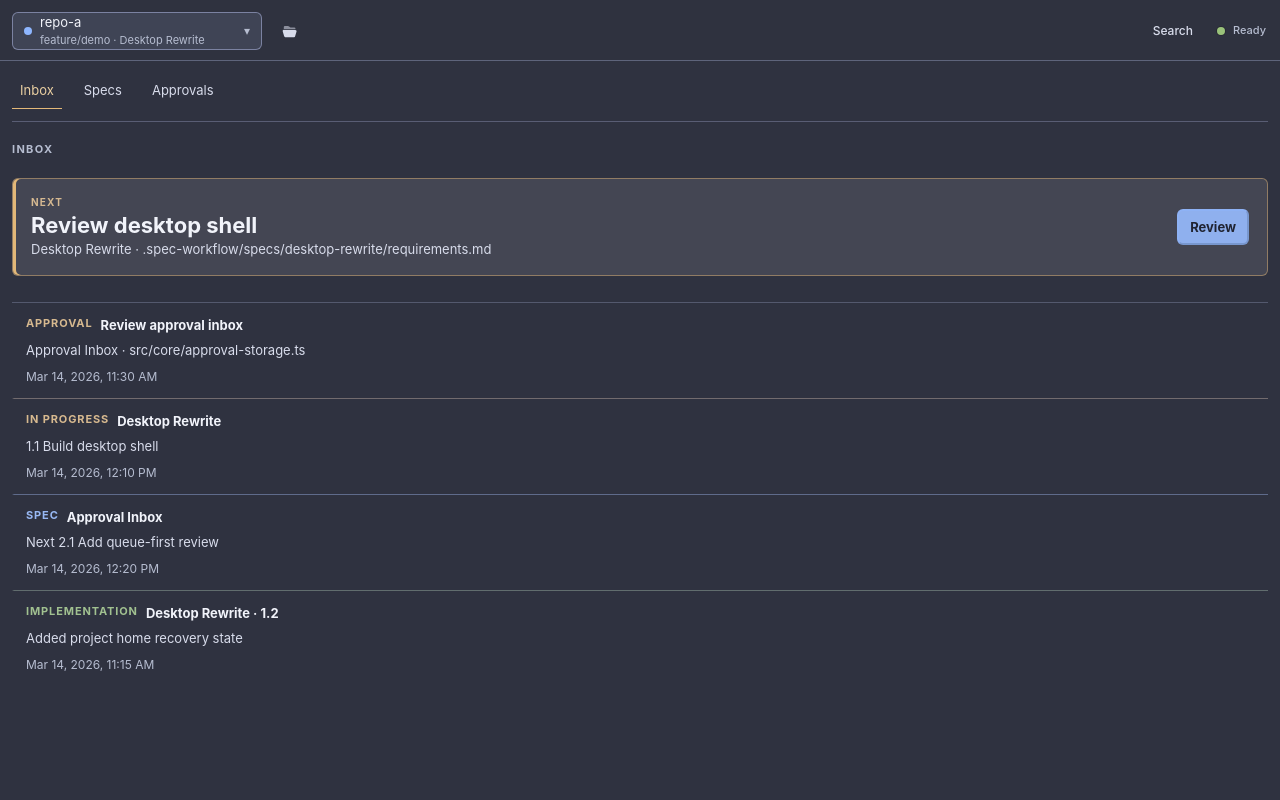
it: App › routes across workspace and approvals through the command palette
Check: the heading "Inbox" is shown, box x1=12 y1=143 x2=53 y2=155
Press k
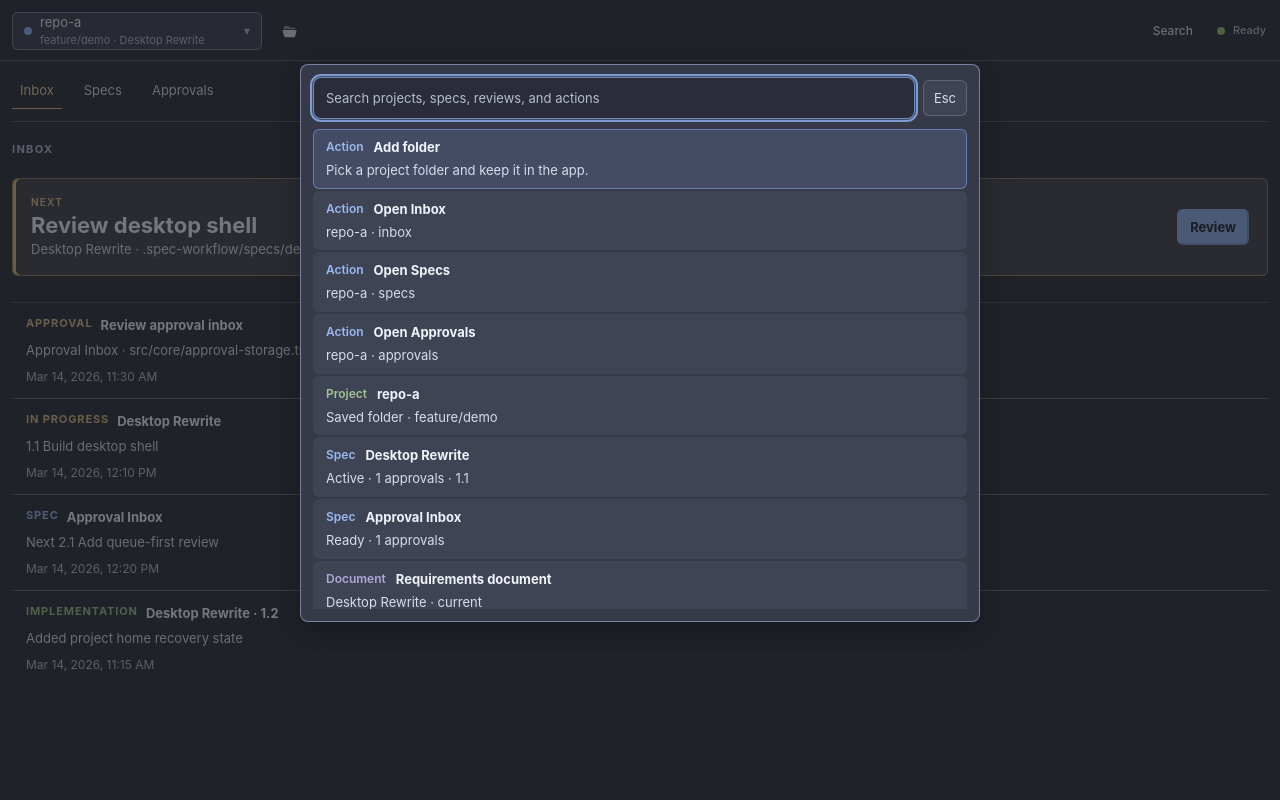
Check: the dialog named "Command palette" is shown, box x1=300 y1=64 x2=980 y2=622
Type "design document" into the dropdown named "Command search". click: (614, 98)
box: x1=313 y1=77 x2=915 y2=119
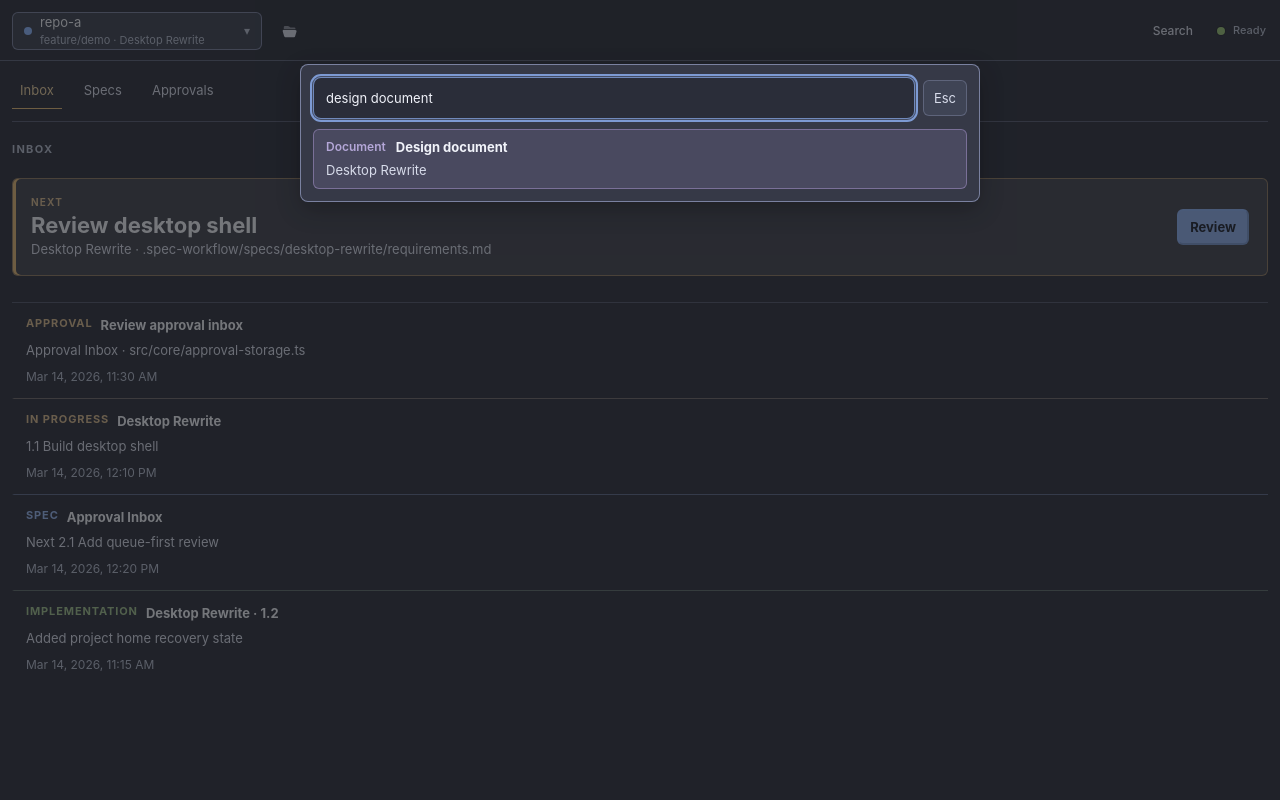
Press Enter
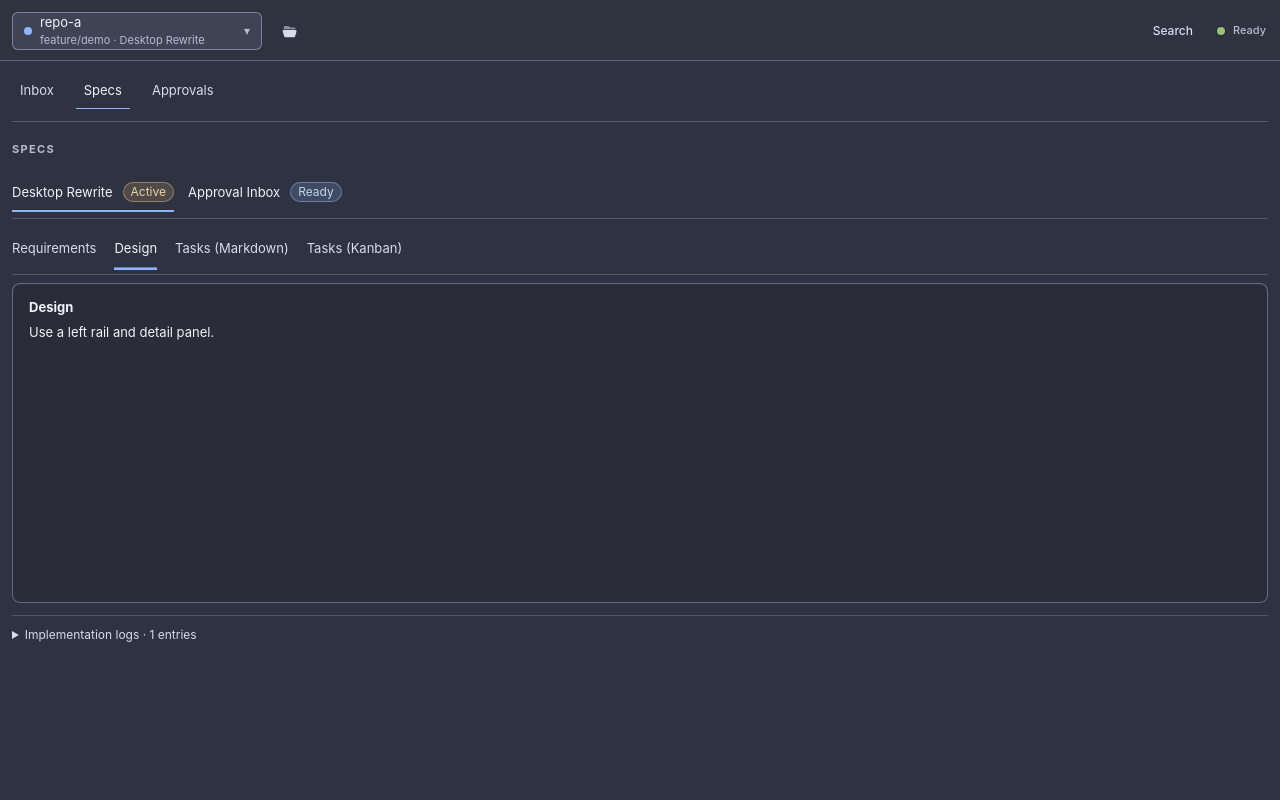
Check: the element named "Desktop Rewrite Design" is shown, box x1=12 y1=283 x2=1268 y2=603
Check: the text "Use a left rail and detail panel." is shown, box x1=29 y1=324 x2=214 y2=340
Press k
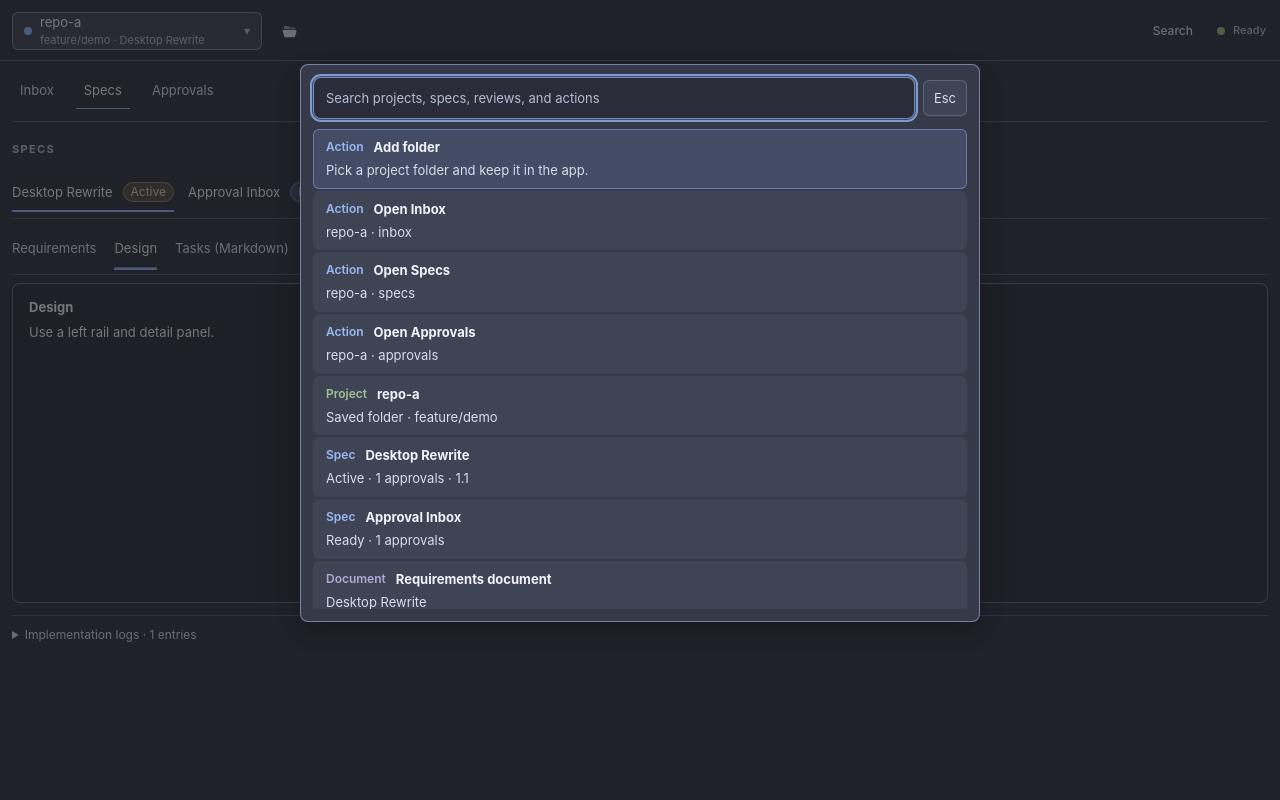
Type "review approval inbox" into the dropdown named "Command search". click: (614, 98)
box: x1=313 y1=77 x2=915 y2=119
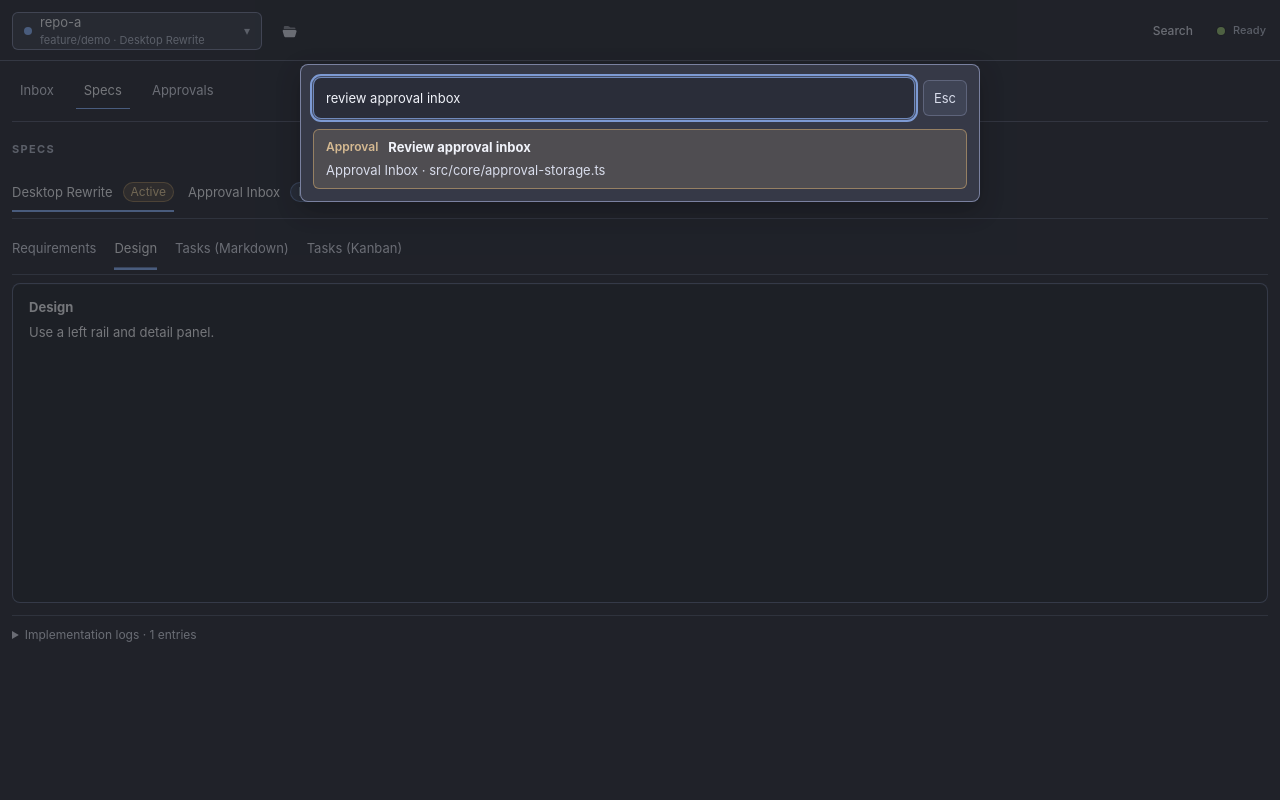
Press Enter
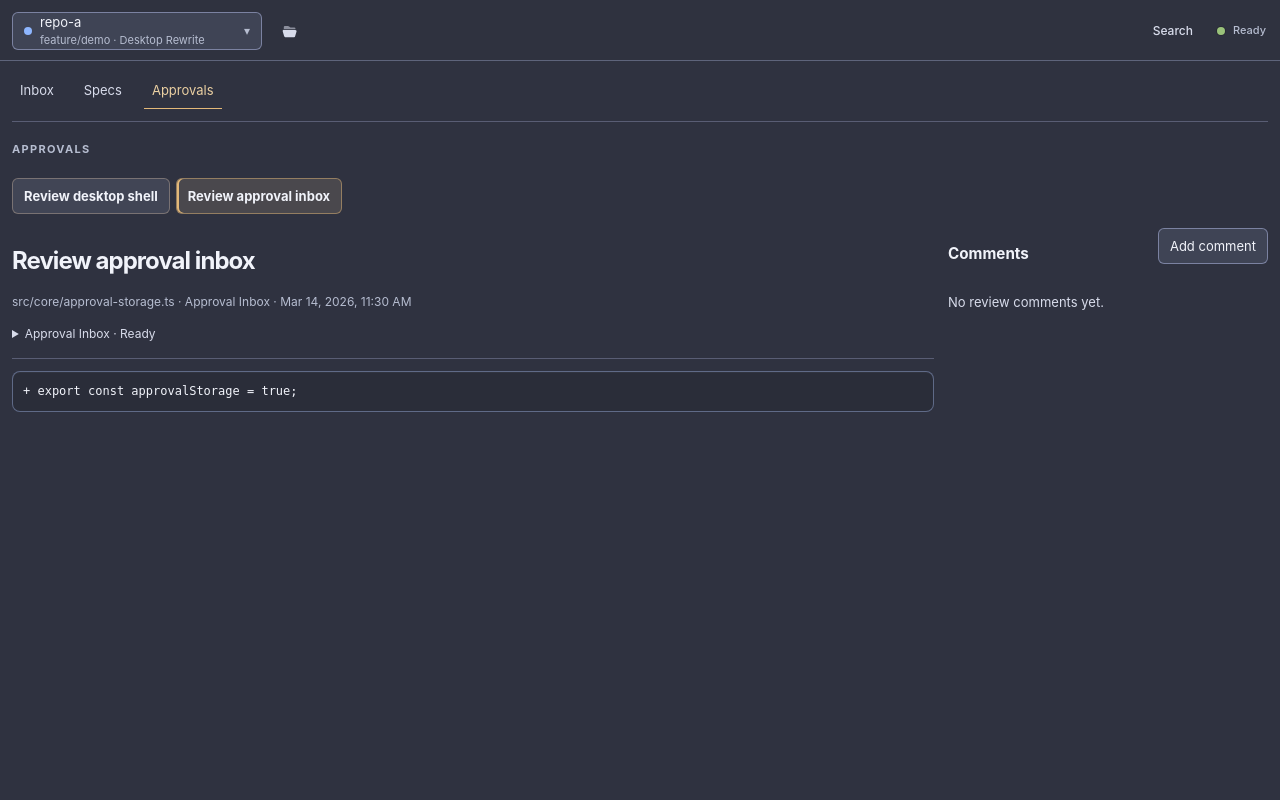
Check: the heading "Approvals" is shown, box x1=12 y1=143 x2=91 y2=155
Check: the text "src/core/approval-storage.ts" is shown, box x1=12 y1=294 x2=175 y2=309
